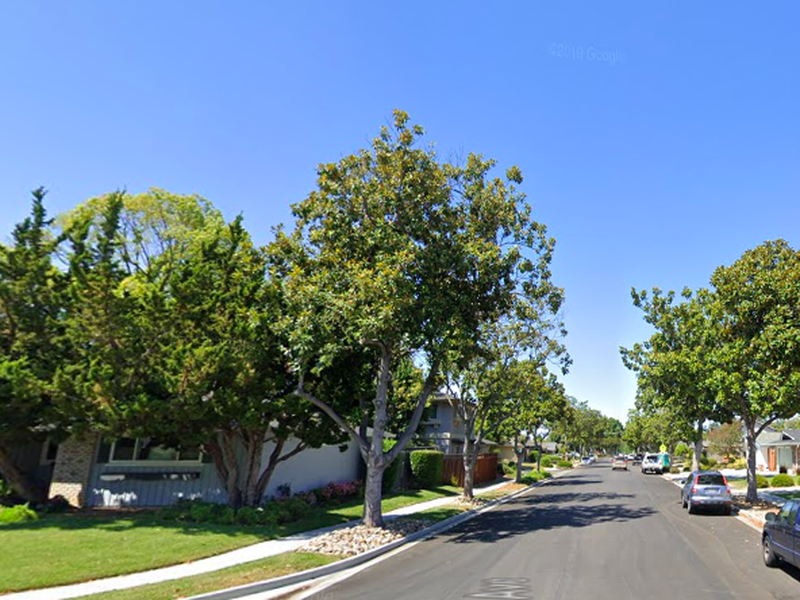tree: (264, 106, 524, 528), (130, 211, 362, 517), (674, 238, 800, 504), (618, 287, 735, 474)
